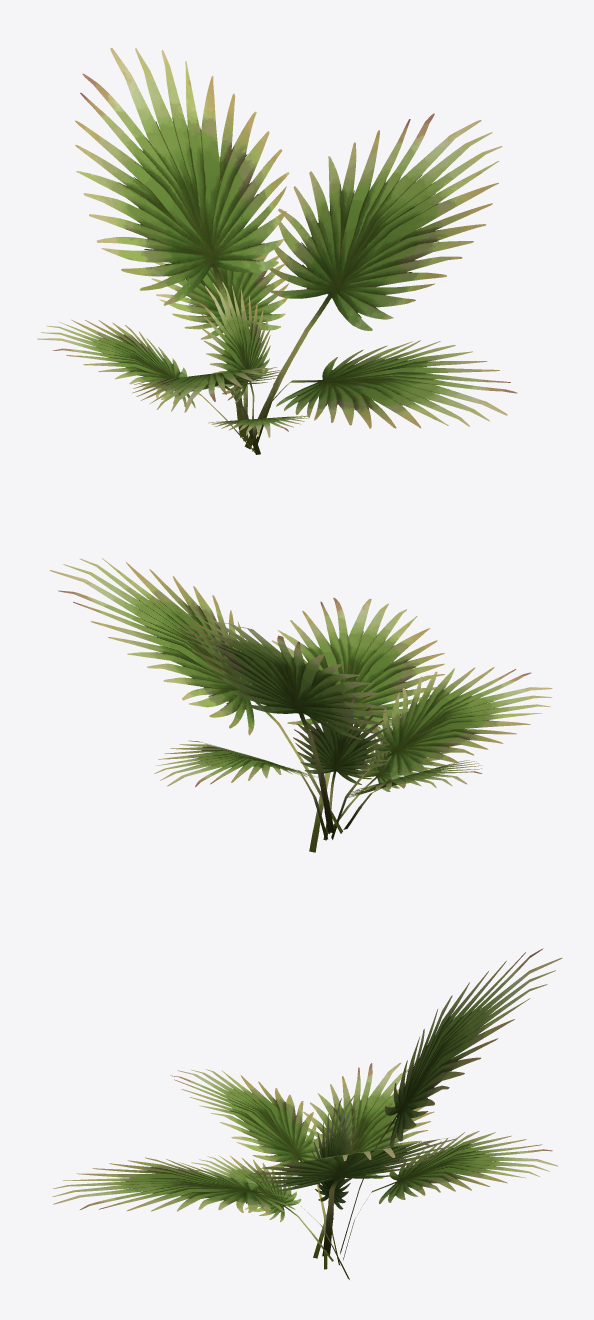
Rendered from HandBush.fbx.
3 views of the same model, one above another, from view 1: azimuth 30°, elevation 25°; view 2: azimuth 150°, elevation 25°; view 3: azimuth 270°, elevation 25° (orthographic). The views are drawn at different scales.
Visible parts, largest first — view 1: HandBush1; view 2: HandBush1; view 3: HandBush1.
Boxes of the visible parts, x1,y1,x2,y2 form: HandBush1: (37, 48, 517, 454); HandBush1: (50, 558, 552, 852); HandBush1: (52, 948, 562, 1279).
Size of the model in its own units: 0.9218 by 0.5972 by 0.9529.
Materials: 1 (1 with a texture image).
